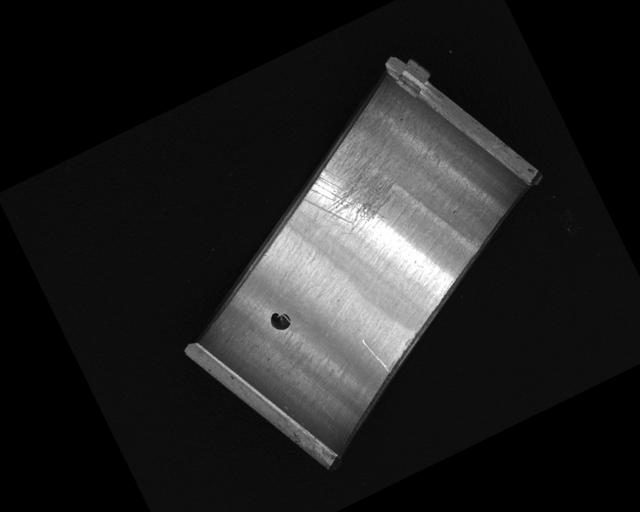blot: (266, 307, 294, 334)
nick: (361, 334, 391, 376)
scratch: (280, 106, 418, 247)
